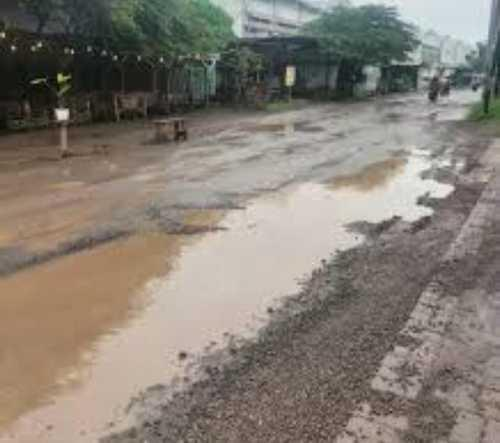Pothole: (0, 160, 478, 414)
